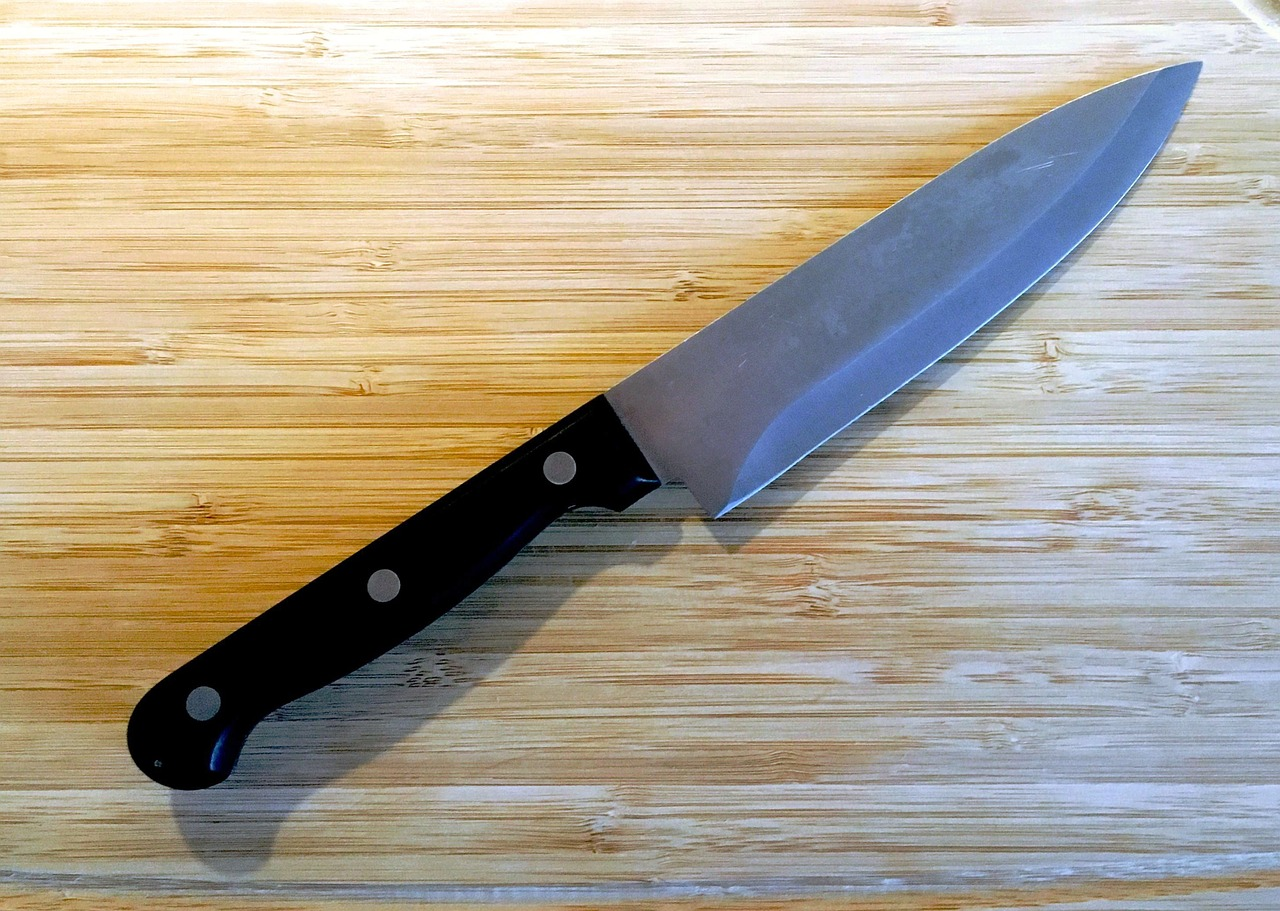knife: (111, 54, 1216, 810)
